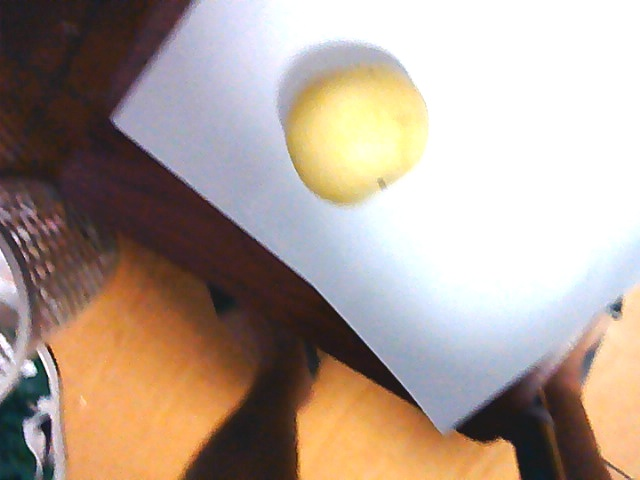pear: (285, 60, 428, 203)
